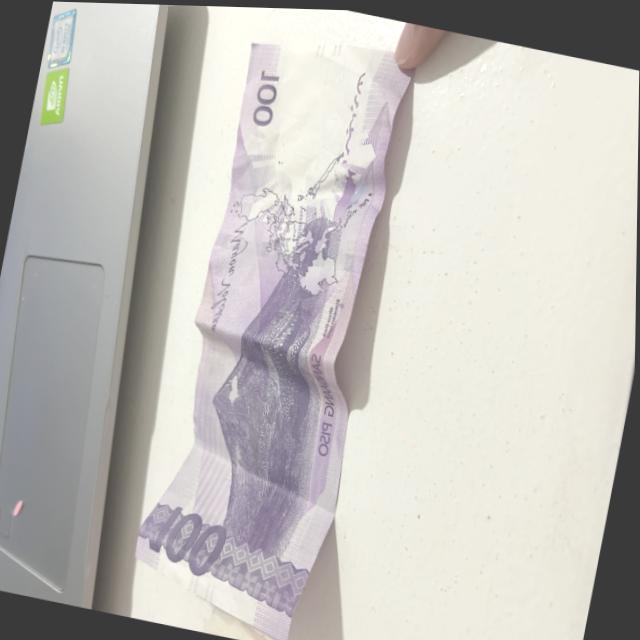100_whale: (251, 275, 329, 438)
100_whale_watermark: (328, 162, 359, 228)
value_watermark: (321, 58, 348, 90)
